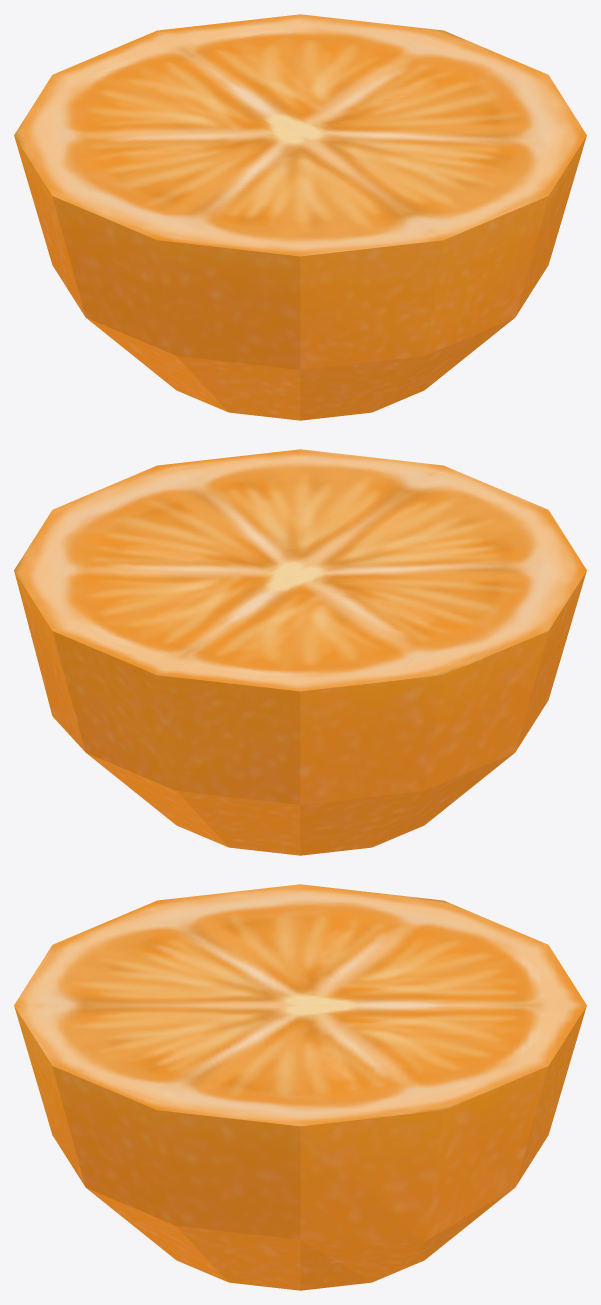
File: orange_half.gltf
The picture shows the model from 3 angles, top to bottom: view 1: azimuth 30°, elevation 25°; view 2: azimuth 150°, elevation 25°; view 3: azimuth 270°, elevation 25°; orthographic projection.
Visible parts, largest first — view 1: fruis_and_vegetables.037; view 2: fruis_and_vegetables.037; view 3: fruis_and_vegetables.037.
Boxes of the visible parts, x1=… form: fruis_and_vegetables.037: x1=14, y1=14, x2=586, y2=420; fruis_and_vegetables.037: x1=14, y1=449, x2=586, y2=855; fruis_and_vegetables.037: x1=14, y1=884, x2=586, y2=1290.
Size of the model in its own units: 0.1467 by 0.0659 by 0.1467.
Materials: 1 (1 with a texture image).
